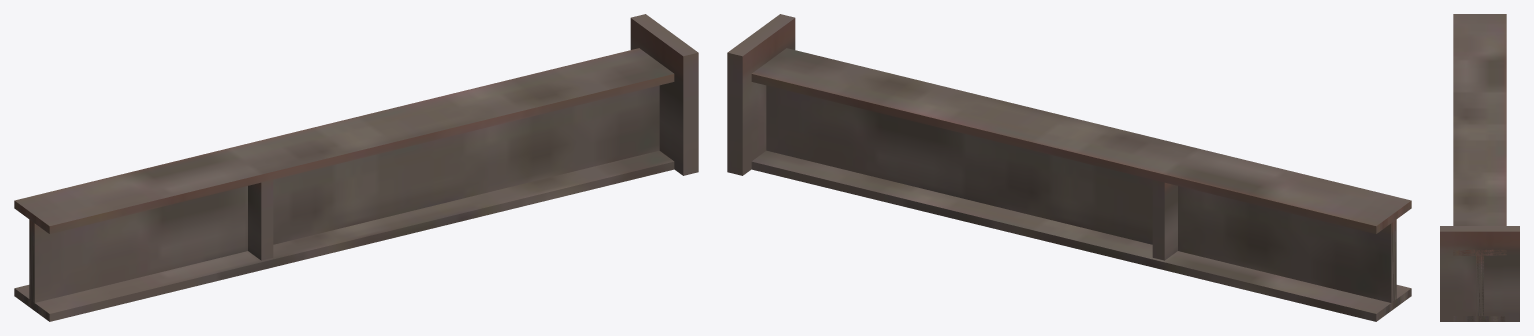
The model's file is debris_sf_steel_beam.glb.
3 views of the same model, side by side, from view 1: azimuth 30°, elevation 25°; view 2: azimuth 150°, elevation 25°; view 3: azimuth 270°, elevation 25° (orthographic). The views are drawn at different scales.
Parts seen in each view (by area): view 1: debris_sf_steel_beam; view 2: debris_sf_steel_beam; view 3: debris_sf_steel_beam.
Boxes of the visible parts, x1,y1,x2,y2 form: debris_sf_steel_beam: [14, 14, 698, 321]; debris_sf_steel_beam: [727, 14, 1411, 321]; debris_sf_steel_beam: [1440, 14, 1519, 321].
Bounding box in the file's own units: 4.2 × 0.7501 × 0.5999.
1 material, 1 textured.
